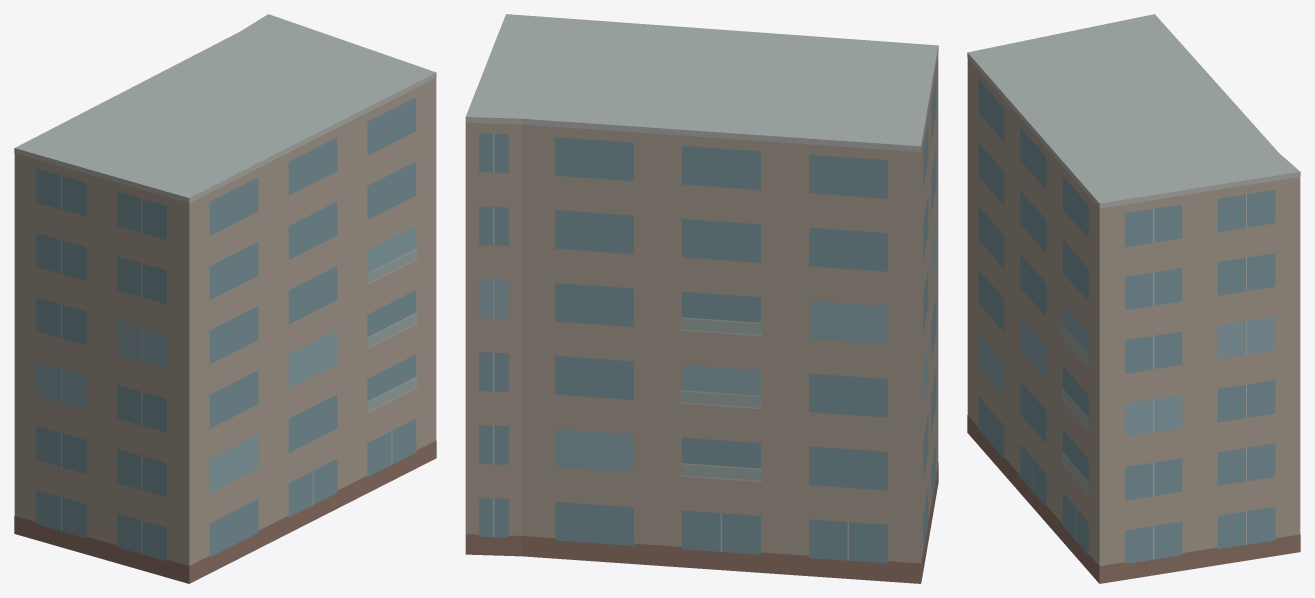
File: survey-upis-32966297.glb
The picture shows the model from 3 angles, left to right: view 1: azimuth 30°, elevation 25°; view 2: azimuth 150°, elevation 25°; view 3: azimuth 270°, elevation 25°; orthographic projection. The views are drawn at different scales.
Parts seen in each view (by area): view 1: survey-upis-32966297.tmp; view 2: survey-upis-32966297.tmp; view 3: survey-upis-32966297.tmp.
Boxes of the visible parts, x1,y1,x2,y2 form: survey-upis-32966297.tmp: (14,14,436,583); survey-upis-32966297.tmp: (465,14,938,583); survey-upis-32966297.tmp: (967,14,1300,583).
Size of the model in its own units: 19.57 by 18.3 by 14.53.
